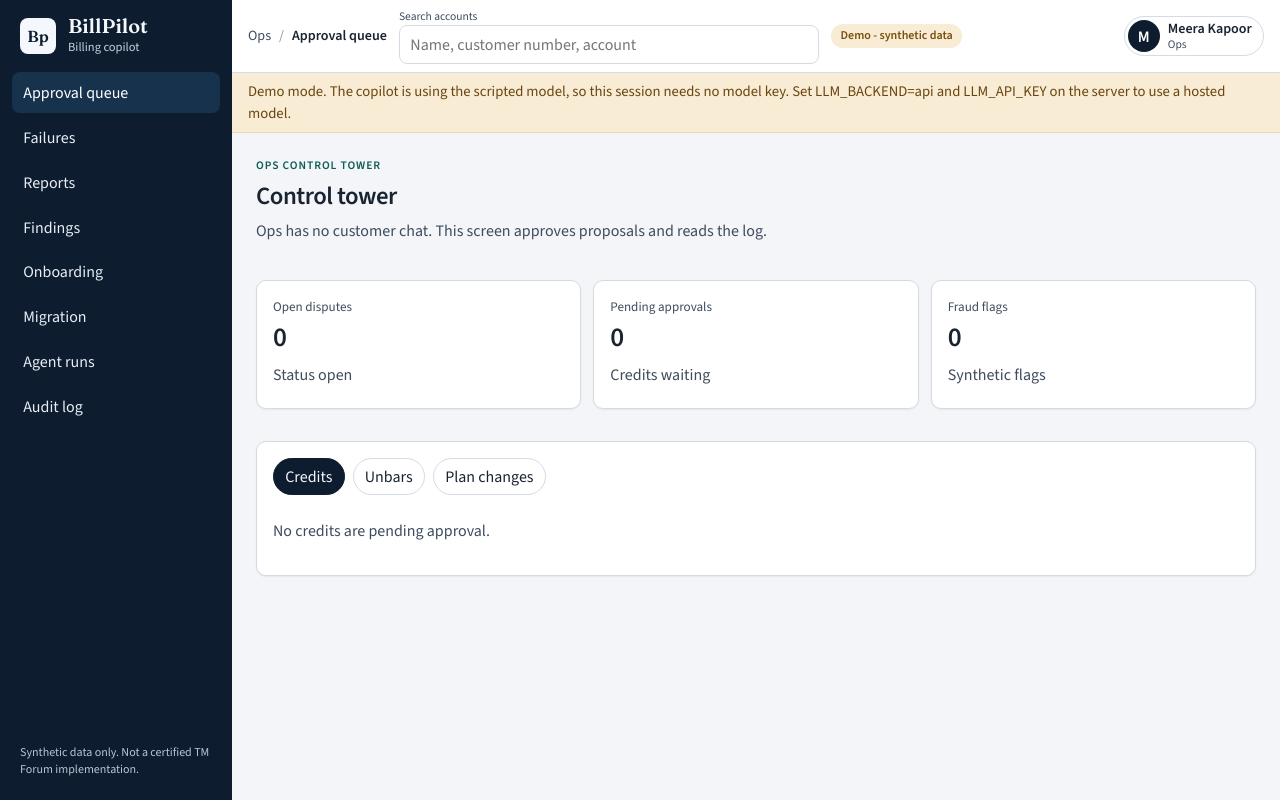
Test case: sign-in and role routing › logs out back to the sign-in screen
Click the button "M Meera Kapoor Ops" at point(1194, 36), box left=1124, top=16, right=1264, bottom=56
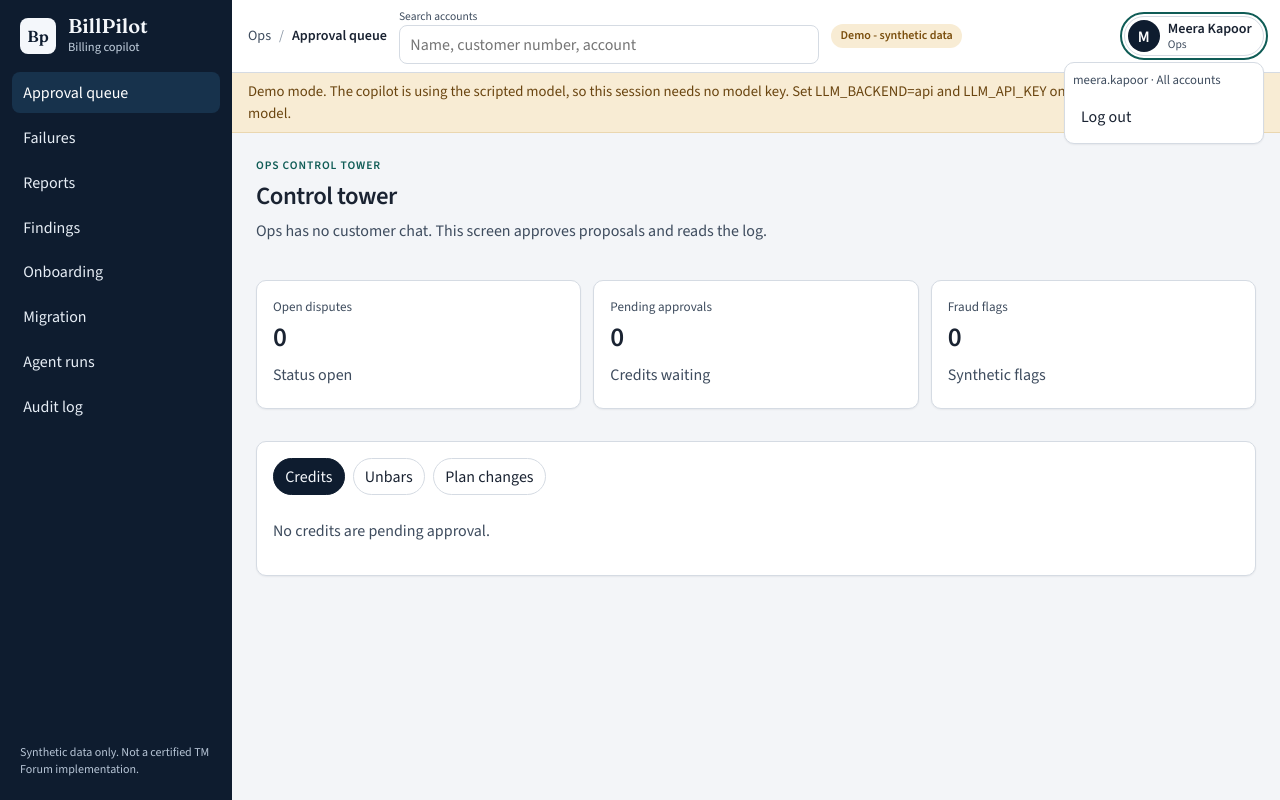
Click the menu item "Log out" at point(1164, 117), box left=1073, top=98, right=1255, bottom=136
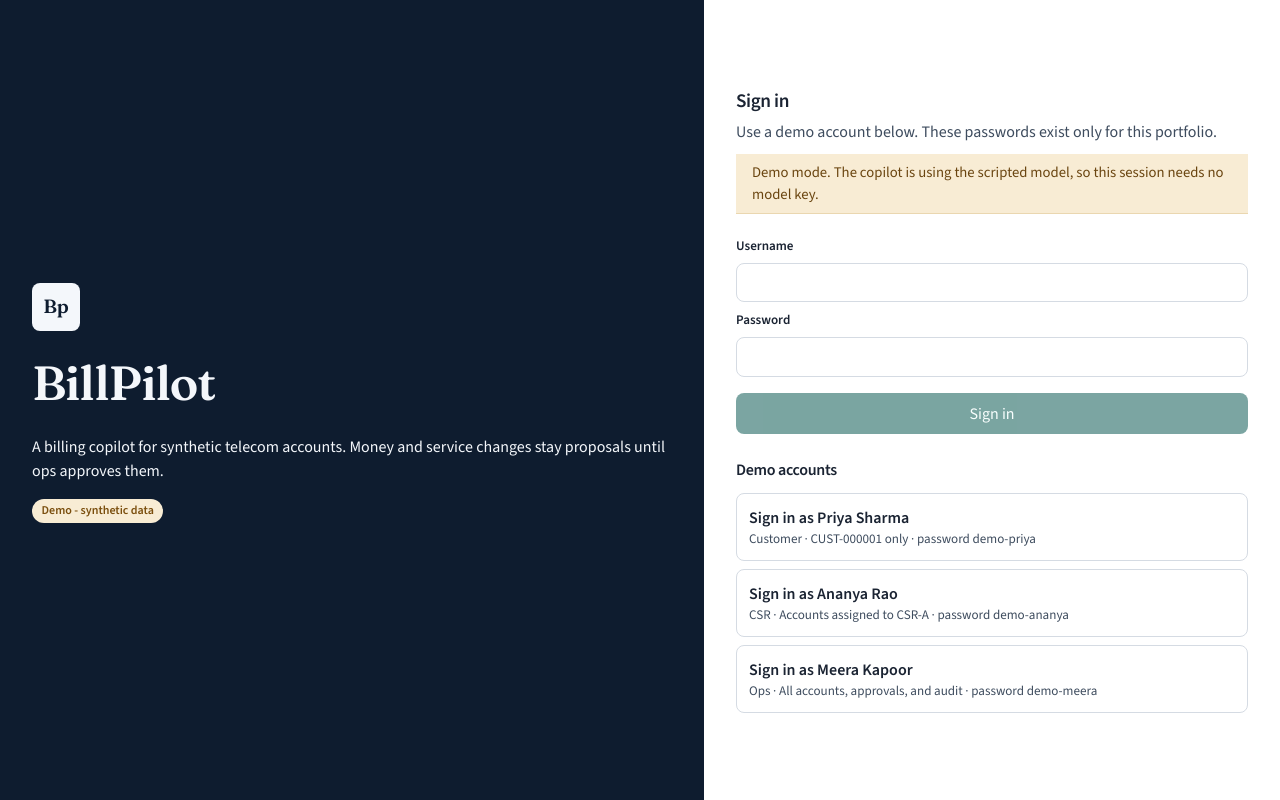
Expected: the heading "Sign in" is shown, left=736, top=88, right=789, bottom=113
